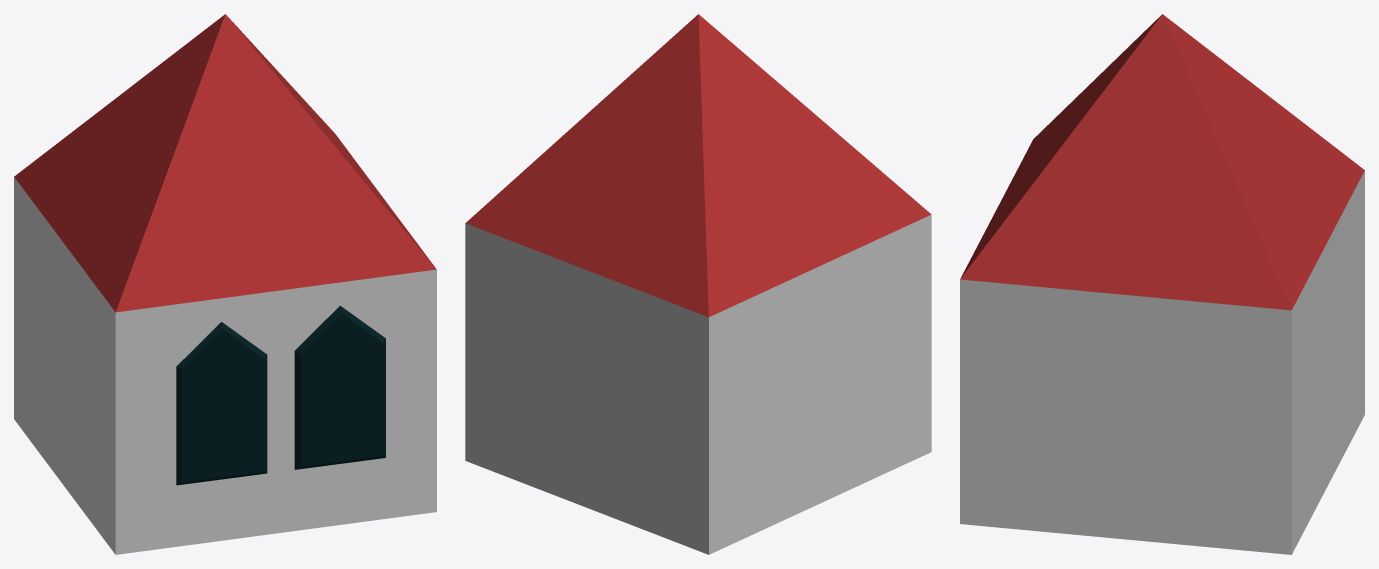
File: TOWER 5.fbx
The picture shows the model from 3 angles, left to right: view 1: azimuth 30°, elevation 25°; view 2: azimuth 150°, elevation 25°; view 3: azimuth 270°, elevation 25°; orthographic projection. The views are drawn at different scales.
Parts seen in each view (by area): view 1: TOWER_5; view 2: TOWER_5; view 3: TOWER_5.
Part boxes in pixels (x1,y1,x2,y2): TOWER_5: [14, 14, 436, 554]; TOWER_5: [465, 14, 931, 554]; TOWER_5: [960, 14, 1364, 554].
Size of the model in its own units: 107 by 133 by 107.
Materials: 1 (1 with a texture image).
